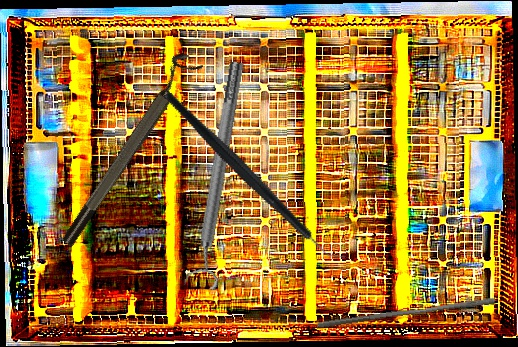Chopper: (161, 52, 350, 300)
Fixation Ring: (50, 48, 204, 250), (180, 59, 258, 291)
Pusher: (316, 291, 496, 336)
